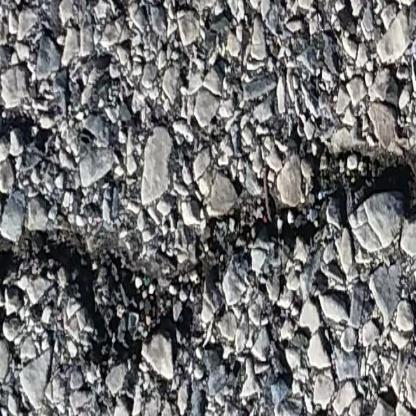Cracks: (0, 127, 416, 385), (0, 107, 62, 161), (0, 153, 5, 209)
